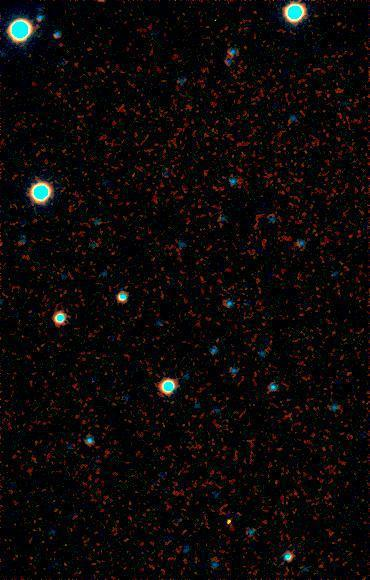star: (221, 504, 251, 534)
